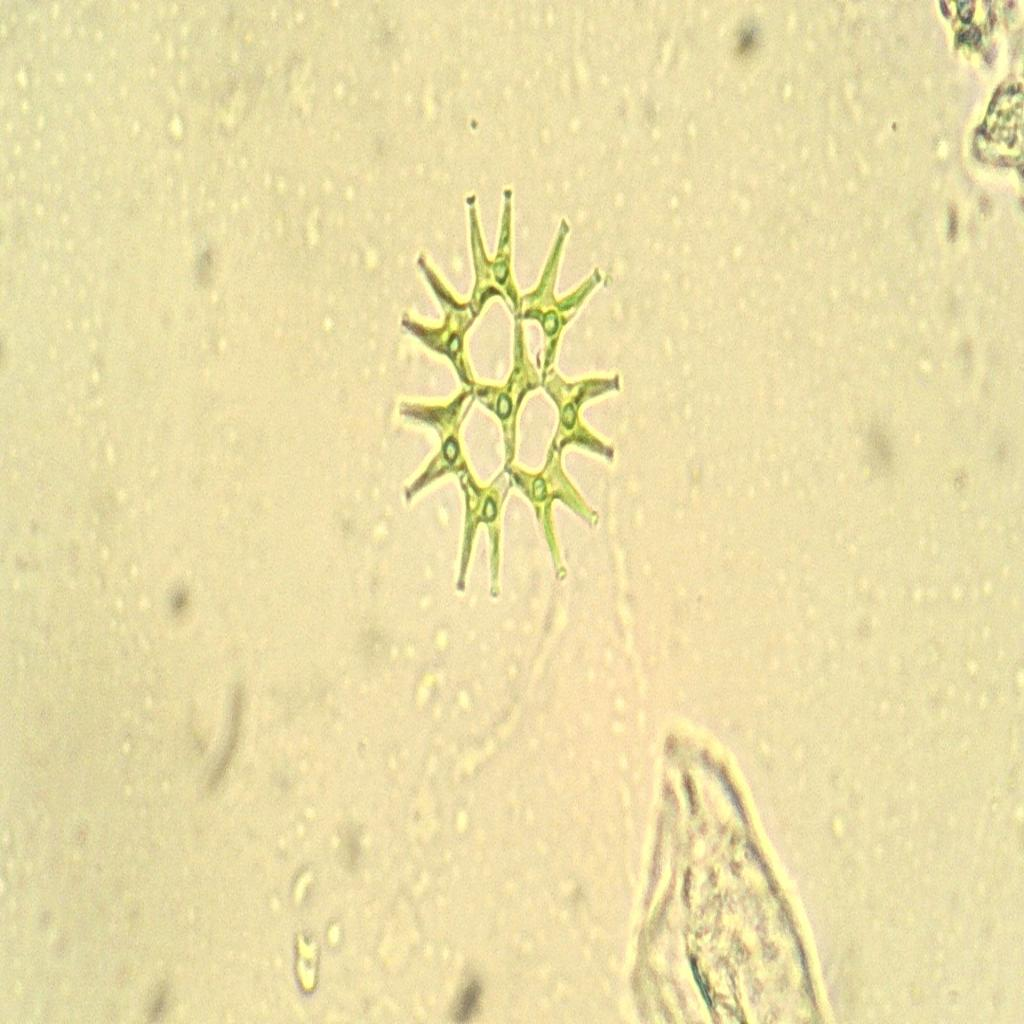Pediastrum_75T: (383, 160, 635, 625)
